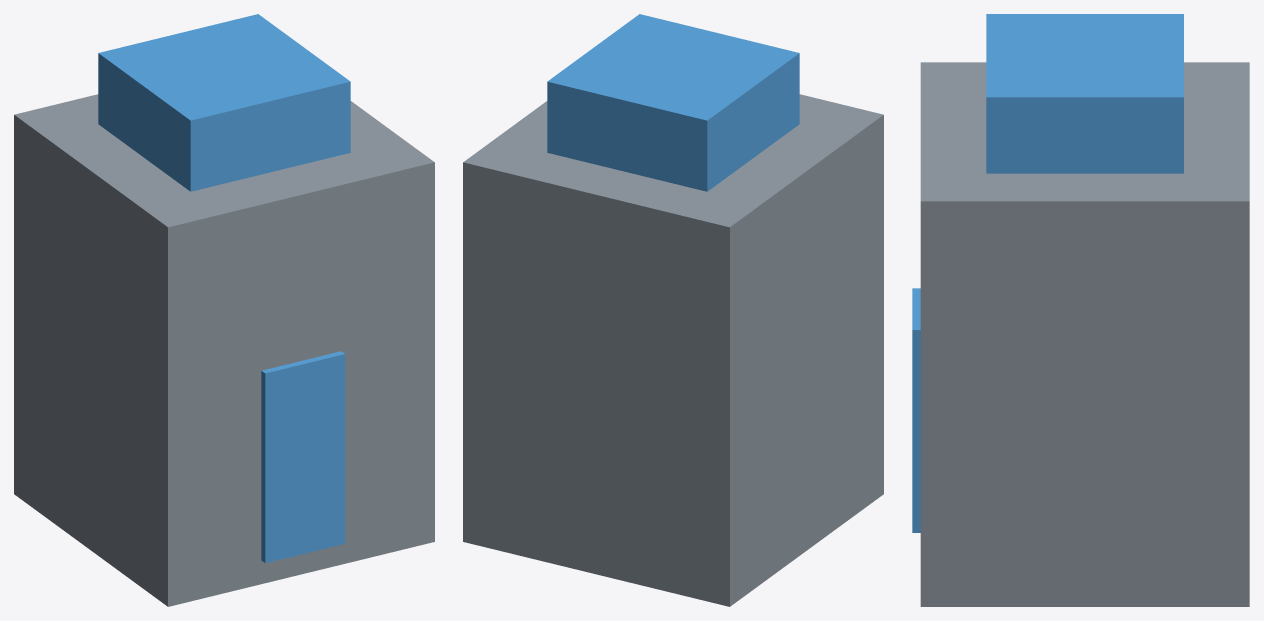
The model's file is AL_Radar_LOD0.glb.
3 views of the same model, side by side, from view 1: azimuth 30°, elevation 25°; view 2: azimuth 150°, elevation 25°; view 3: azimuth 270°, elevation 25° (orthographic). The views are drawn at different scales.
Parts seen in each view (by area): view 1: EntranceGate; view 2: EntranceGate; view 3: EntranceGate.
Part boxes in pixels (x1,y1,x2,y2): EntranceGate: (14,14,434,606); EntranceGate: (463,14,883,606); EntranceGate: (912,14,1249,606).
Size of the model in its own units: 400 by 646 by 410.
